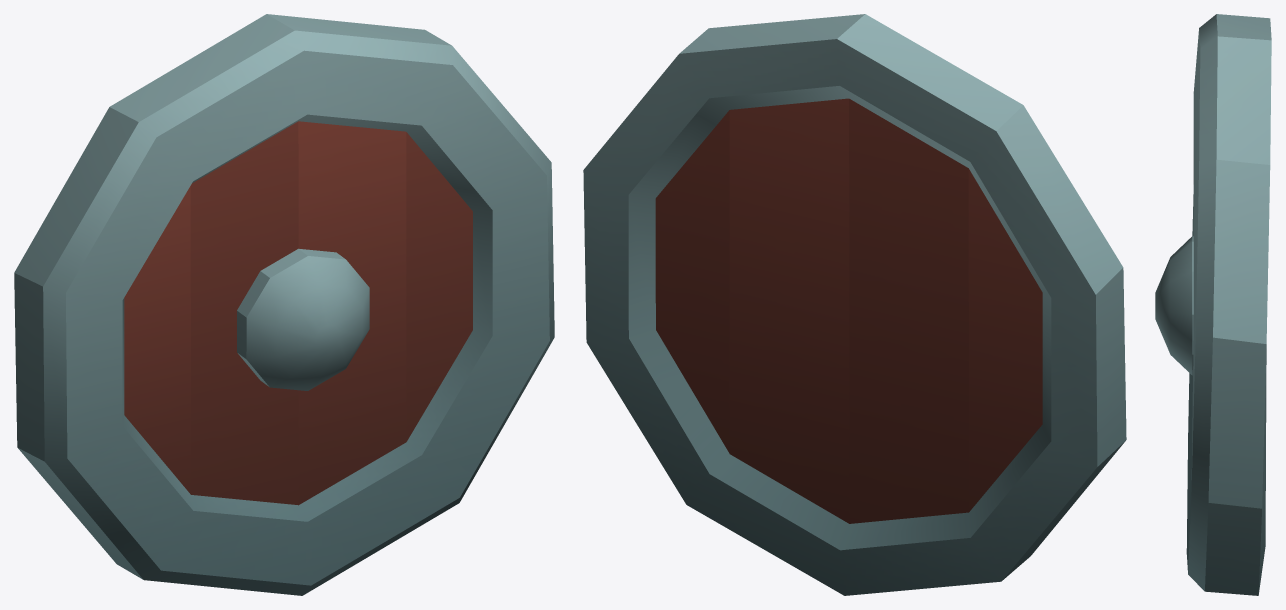
Rendered from Shield.fbx.
3 views of the same model, side by side, from view 1: azimuth 30°, elevation 25°; view 2: azimuth 150°, elevation 25°; view 3: azimuth 270°, elevation 25° (orthographic). The views are drawn at different scales.
Visible parts, largest first — view 1: Shield; view 2: Shield; view 3: Shield.
Boxes of the visible parts, x1,y1,x2,y2 form: Shield: (14, 14, 554, 595); Shield: (583, 14, 1126, 595); Shield: (1155, 14, 1271, 595).
Size of the model in its own units: 1408 by 1488 by 292.
